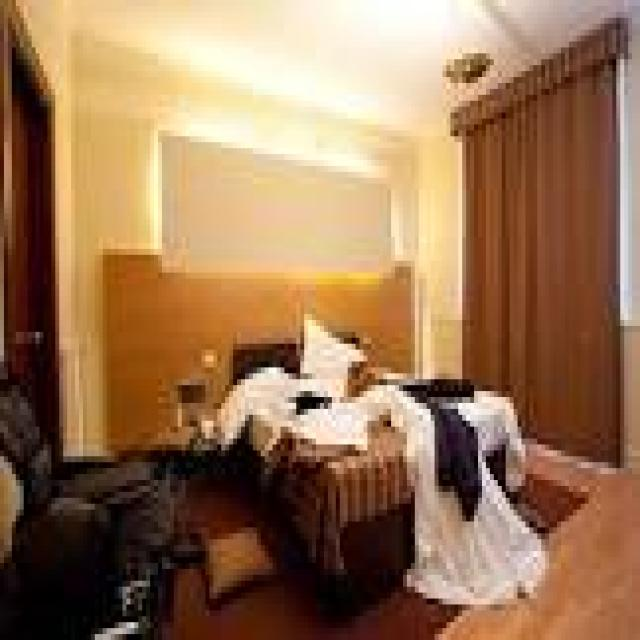mess: (234, 348, 529, 487), (158, 458, 273, 640), (151, 389, 241, 471)
